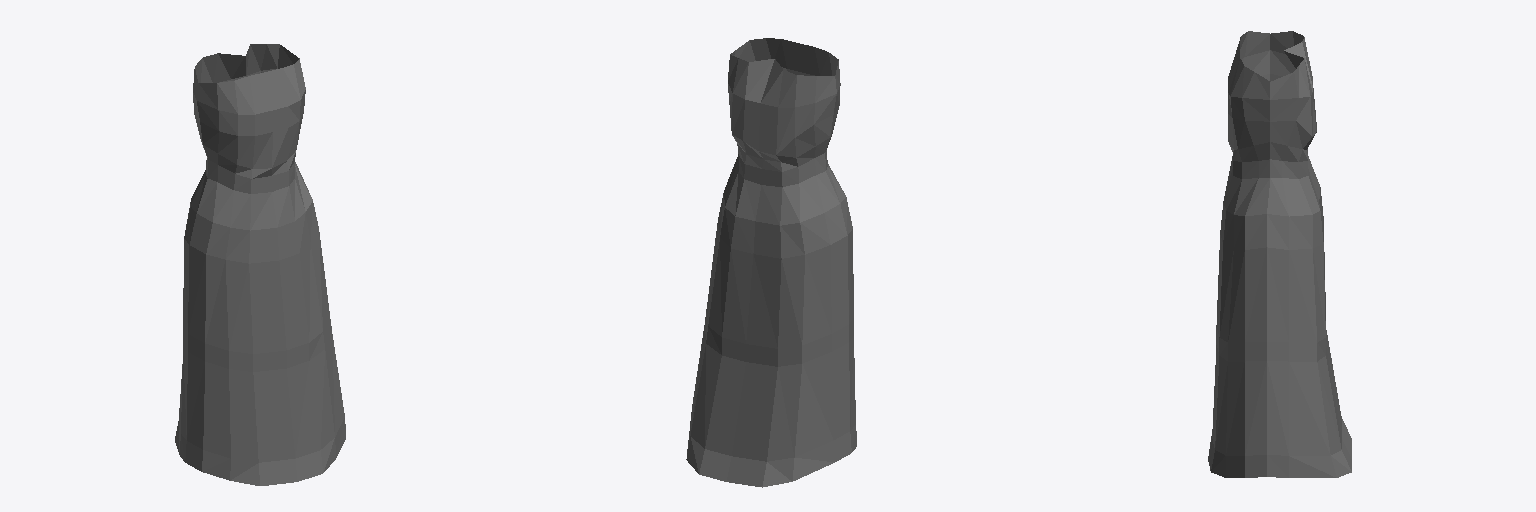
The model's file is clothe1.obj.
3 views of the same model, side by side, from view 1: azimuth 30°, elevation 25°; view 2: azimuth 150°, elevation 25°; view 3: azimuth 270°, elevation 25° (orthographic).
Parts seen in each view (by area): view 1: Cylinder01; view 2: Cylinder01; view 3: Cylinder01.
Part boxes in pixels (left/top/right/bottom): Cylinder01: left=175, top=44, right=345, bottom=485; Cylinder01: left=686, top=38, right=856, bottom=487; Cylinder01: left=1208, top=31, right=1351, bottom=477.
Bounding box in the file's own units: 42.39 × 105 × 34.23.